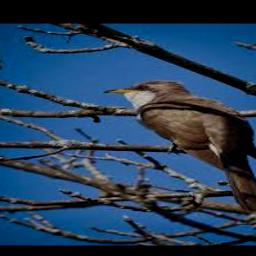Cuckoo: (107, 81, 256, 213)
